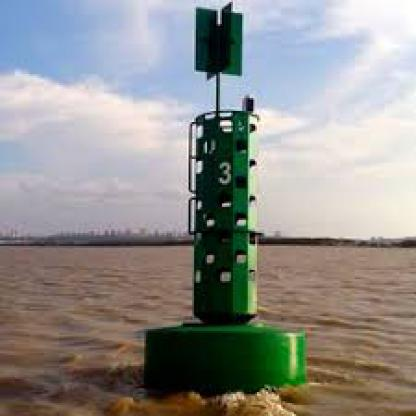buoy: (128, 2, 316, 401)
